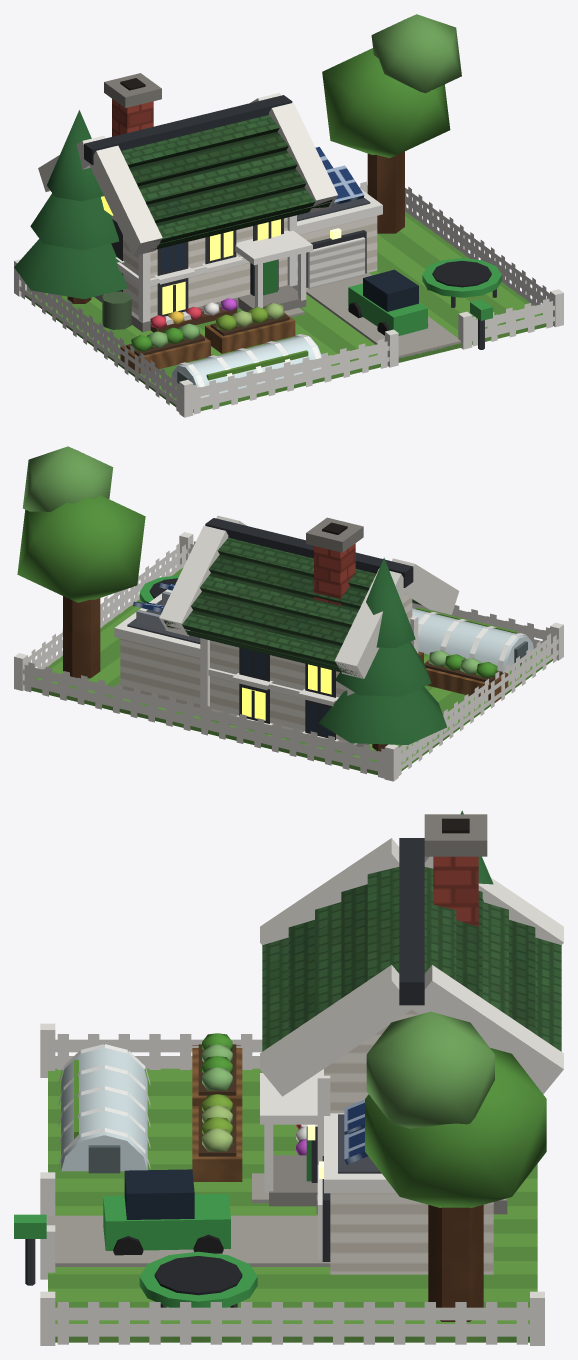
File: homestead_modern_green.glb
3 renders of one model, top to bottom at view 1: azimuth 30°, elevation 25°; view 2: azimuth 150°, elevation 25°; view 3: azimuth 270°, elevation 25°, orthographic. The views are drawn at different scales.
Parts seen in each view (by area): view 1: homestead_modern_green; view 2: homestead_modern_green; view 3: homestead_modern_green.
Part boxes in pixels (bbox=[...]): homestead_modern_green: bbox=[14, 14, 563, 417]; homestead_modern_green: bbox=[14, 446, 563, 781]; homestead_modern_green: bbox=[14, 810, 563, 1345].
Size of the model in its own units: 0.5747 by 0.284 by 0.4381.
Materials: 3 (1 with a texture image).
